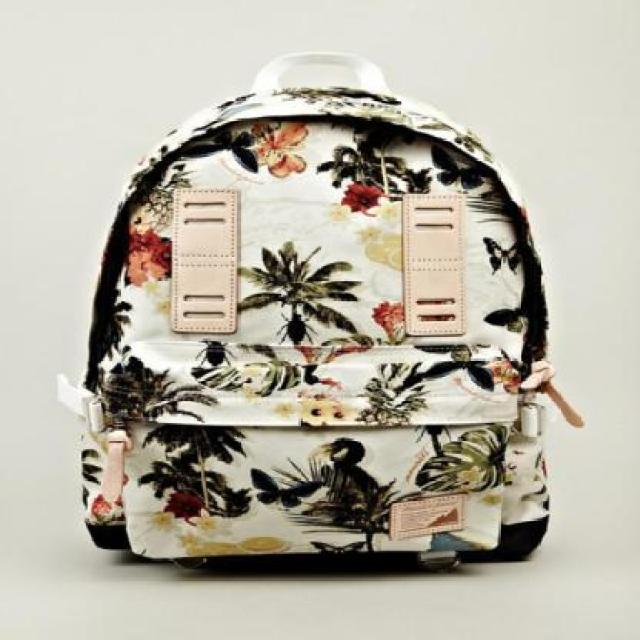backpack: (49, 46, 596, 582)
